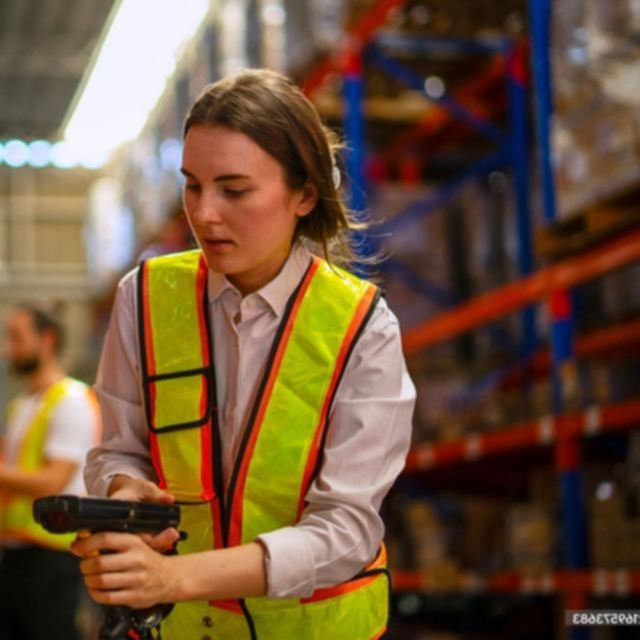Con_Chaleco: (117, 253, 385, 640)
Sin_Casco_Mascarrilla: (179, 70, 326, 272)
